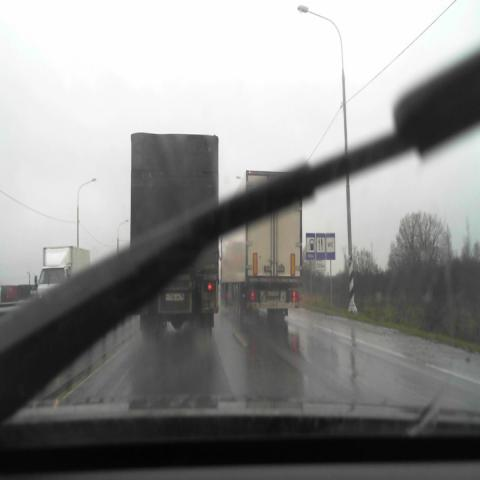7_18: (326, 233, 335, 260)
7_3: (306, 233, 315, 259)
7_7: (316, 233, 326, 259)
